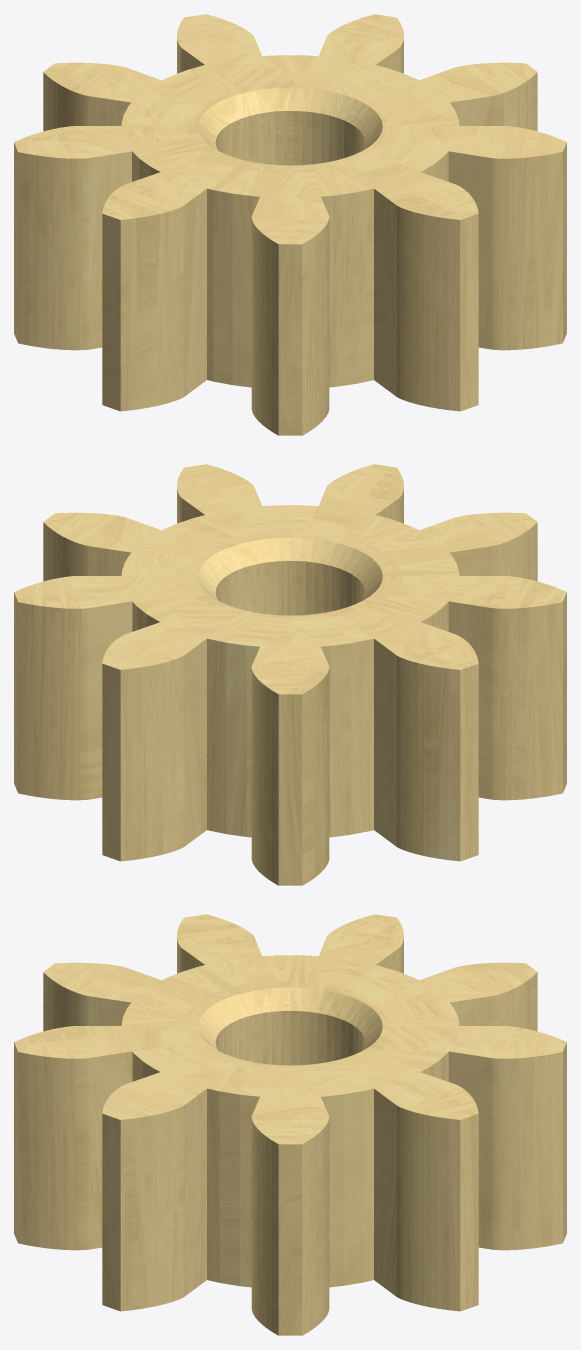
The model's file is planet_gear_v2.glb.
The picture shows the model from 3 angles, top to bottom: view 1: azimuth 30°, elevation 25°; view 2: azimuth 150°, elevation 25°; view 3: azimuth 270°, elevation 25°; orthographic projection.
Parts seen in each view (by area): view 1: OpenSCAD_Model; view 2: OpenSCAD_Model; view 3: OpenSCAD_Model.
Part boxes in pixels (x1,y1,x2,y2): OpenSCAD_Model: (14, 14, 566, 435); OpenSCAD_Model: (14, 464, 566, 885); OpenSCAD_Model: (14, 914, 566, 1335).
Size of the model in its own units: 30.93 by 12 by 31.41.
1 material, 1 textured.
